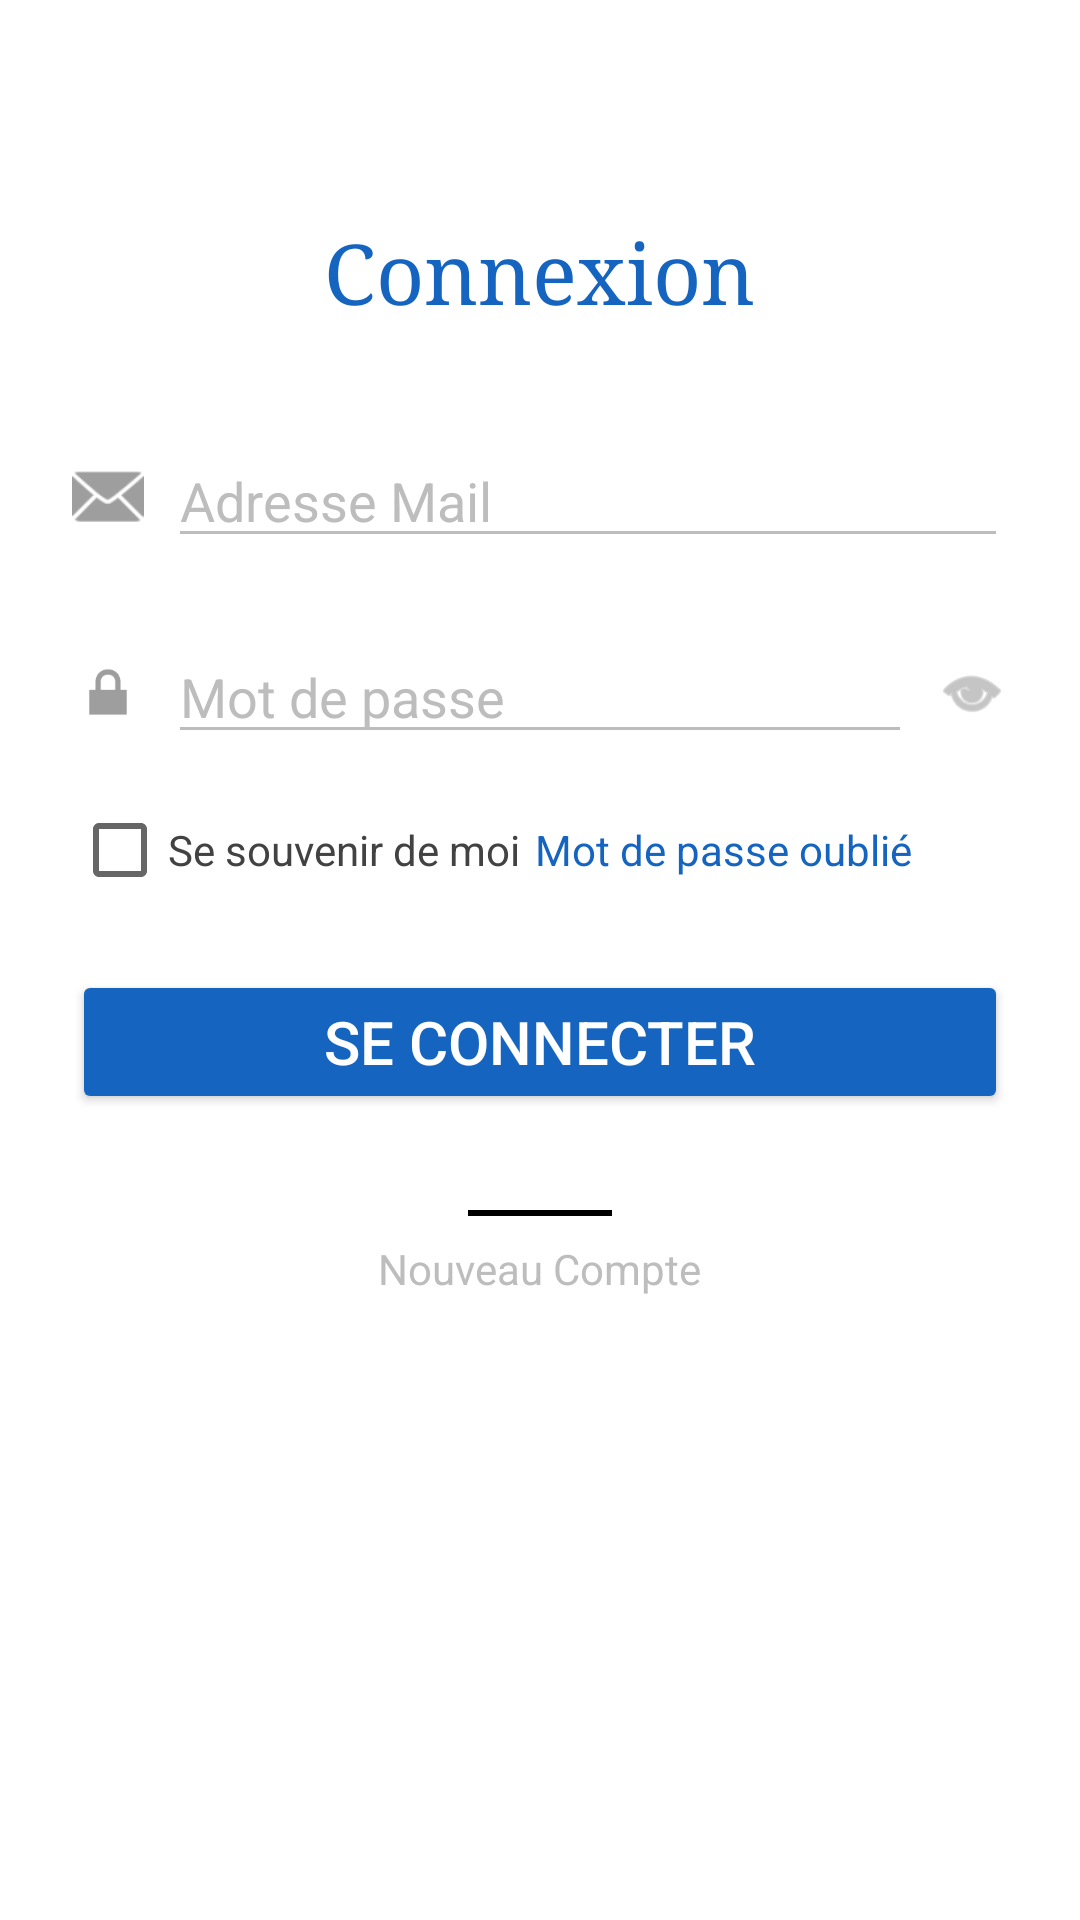

Icons on this 1080 × 1920 Android screen, each with the point to tap as (x=x, y=y):
lock: (x=108, y=692)
view: (x=972, y=694)
